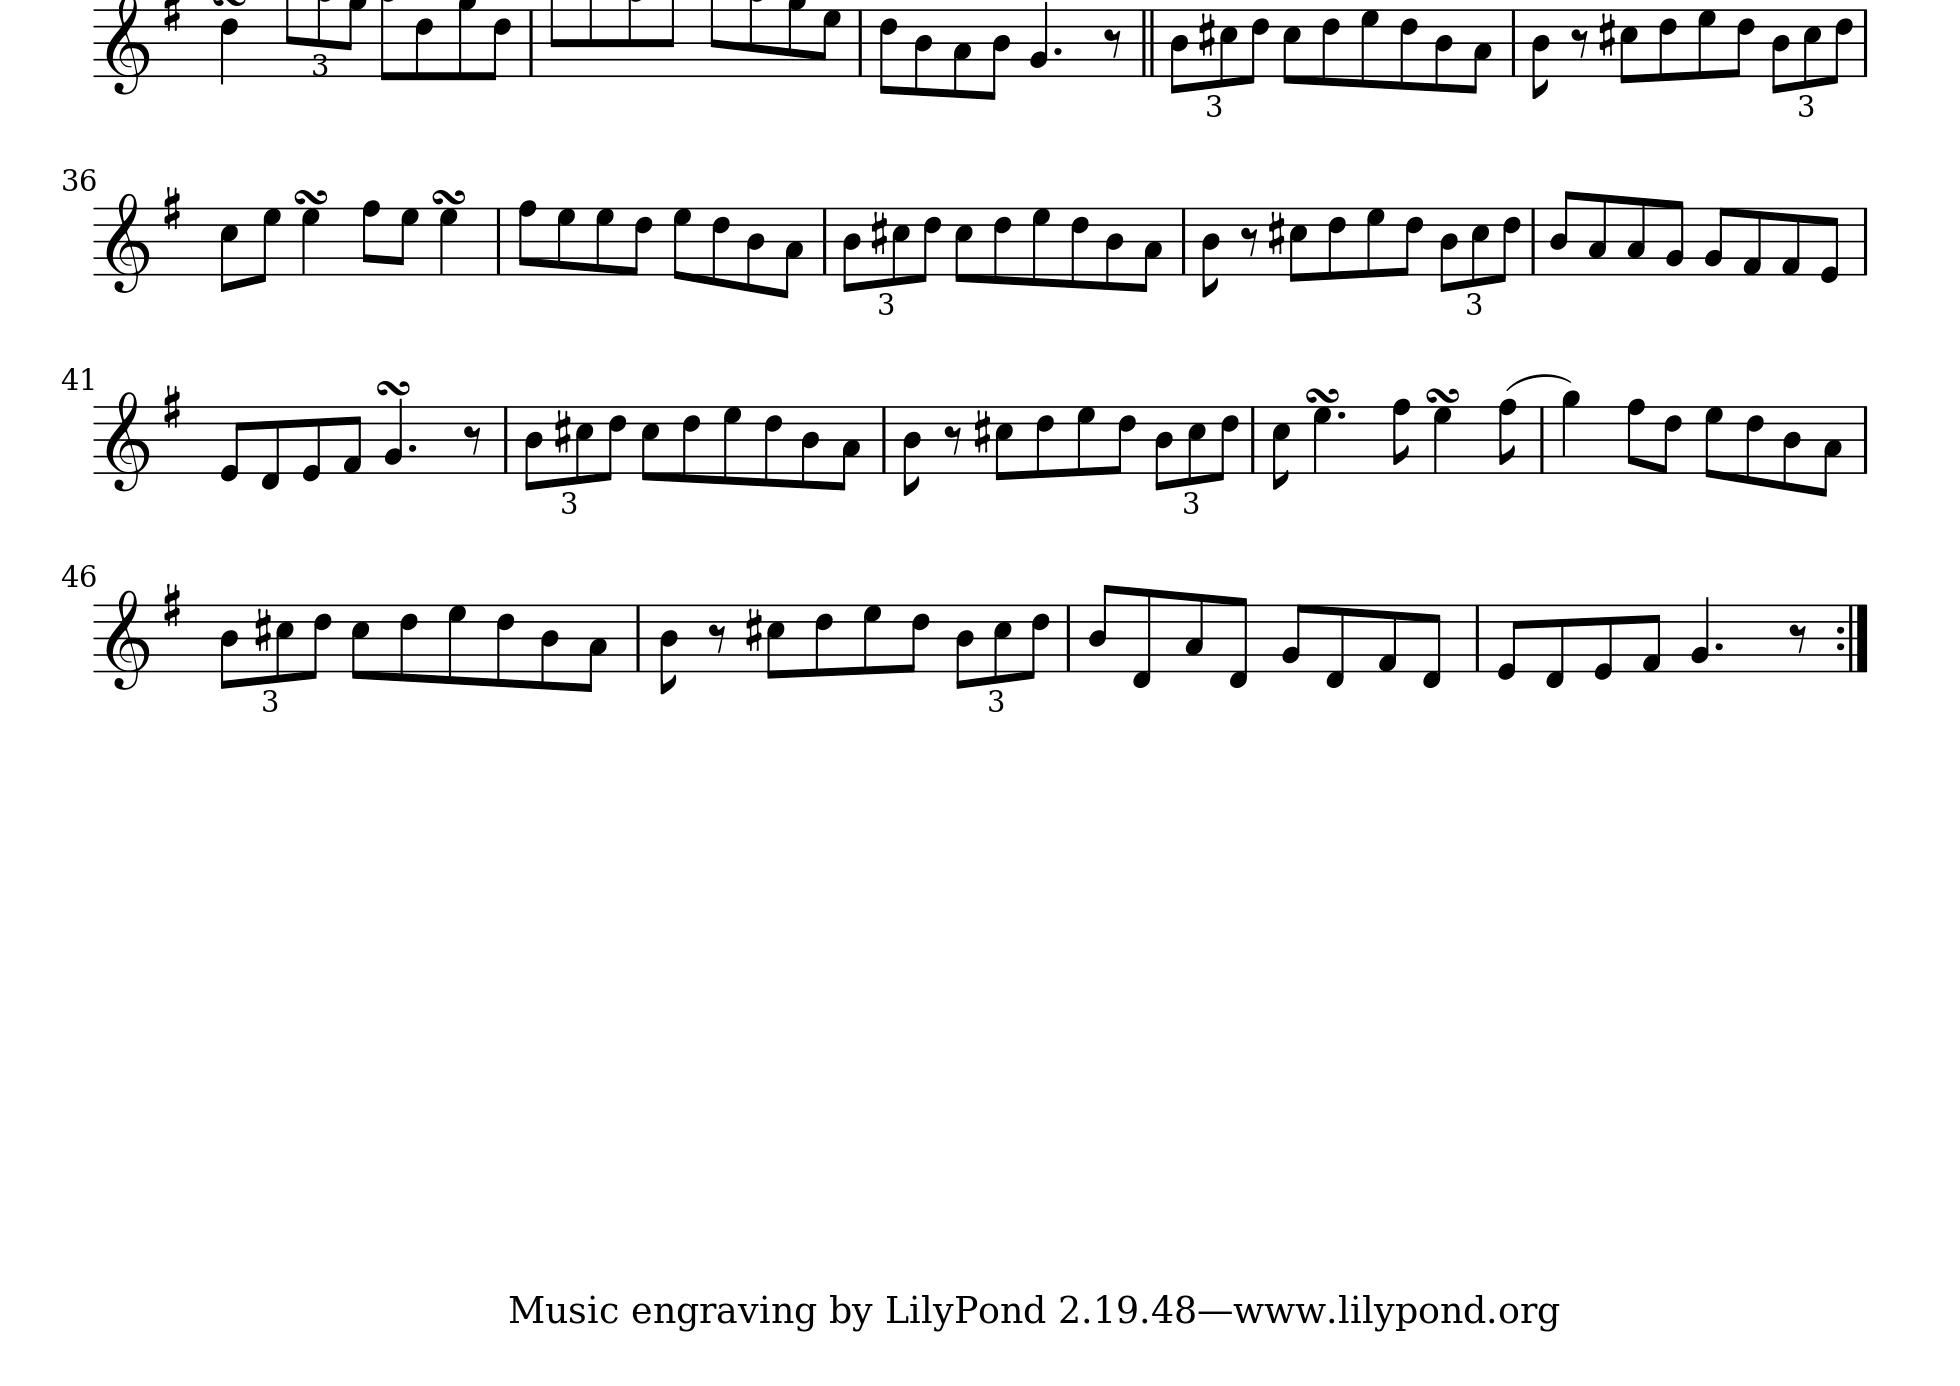1: (79, 364, 94, 393)
3: (985, 687, 1008, 715), (259, 688, 280, 715), (58, 166, 78, 192), (1464, 291, 1483, 316), (1797, 91, 1815, 118), (310, 51, 328, 76), (1206, 93, 1224, 118), (559, 490, 577, 516), (1182, 490, 1200, 516), (877, 292, 894, 316)
4: (60, 364, 79, 391), (60, 562, 78, 589)
4_2: (382, 397, 405, 475), (1689, 595, 1711, 673), (1029, 1, 1051, 78)
4_7: (300, 205, 324, 277), (438, 205, 460, 277), (1312, 405, 1335, 475), (1432, 405, 1455, 475)
4_9: (1560, 387, 1582, 475)
6: (78, 166, 97, 192), (79, 562, 97, 589)
8_-1: (1129, 586, 1153, 690), (1227, 594, 1251, 690), (1323, 601, 1347, 690), (1420, 601, 1444, 688), (1543, 601, 1567, 688), (259, 403, 282, 490)
8_0: (217, 403, 247, 483), (1495, 601, 1524, 681), (1818, 205, 1843, 283), (1593, 601, 1615, 681), (300, 403, 322, 481)
8_1: (1779, 205, 1803, 277), (1375, 601, 1399, 673), (1741, 205, 1764, 277), (340, 403, 363, 475), (1641, 601, 1662, 675)
8_2: (1279, 601, 1309, 673), (1704, 205, 1731, 277), (1665, 198, 1686, 277)
8_3: (774, 205, 805, 298), (577, 601, 609, 694), (831, 403, 862, 493), (1134, 205, 1165, 294), (1816, 403, 1845, 499), (1464, 7, 1494, 96), (949, 7, 973, 99), (1587, 192, 1611, 277), (1626, 195, 1648, 277), (1183, 591, 1206, 673)
8_4: (1086, 582, 1117, 673), (1548, 189, 1576, 277), (987, 7, 1014, 100), (910, 7, 934, 97), (1530, 7, 1552, 100), (1200, 205, 1222, 298), (901, 403, 924, 496), (1780, 403, 1803, 493), (744, 205, 766, 294), (522, 403, 544, 492), (1168, 7, 1191, 94), (1432, 7, 1455, 94), (1104, 205, 1126, 292), (658, 601, 679, 694), (217, 600, 238, 691), (538, 601, 559, 691), (1438, 205, 1459, 294), (954, 601, 975, 690), (1770, 7, 1791, 94), (841, 205, 862, 292), (799, 403, 820, 490), (1153, 403, 1174, 490)
8_5: (217, 205, 240, 292), (991, 601, 1014, 684), (1270, 403, 1291, 490), (273, 601, 294, 684), (1218, 7, 1239, 88), (1801, 7, 1822, 88), (889, 205, 910, 286), (1618, 6, 1639, 85), (349, 601, 370, 681), (765, 601, 786, 681), (640, 403, 661, 481), (1186, 403, 1206, 486), (1470, 205, 1489, 286), (574, 403, 594, 484), (1282, 7, 1302, 85), (954, 205, 973, 283), (1288, 205, 1308, 283), (994, 403, 1014, 481)
8_6: (304, 601, 334, 679), (1024, 601, 1053, 679), (484, 7, 514, 81), (901, 601, 931, 675), (1245, 7, 1272, 85), (916, 205, 943, 283), (1497, 205, 1524, 283), (601, 403, 628, 481), (1215, 403, 1242, 481), (627, 205, 655, 277), (1110, 403, 1138, 475), (1728, 7, 1756, 78), (877, 7, 900, 96), (493, 601, 516, 690), (1830, 7, 1855, 84), (762, 403, 784, 489), (1398, 205, 1425, 276), (1398, 7, 1420, 91), (709, 205, 732, 289), (1069, 205, 1092, 289), (1743, 403, 1765, 487), (1659, 403, 1684, 475), (679, 403, 702, 484), (991, 205, 1014, 285), (397, 601, 418, 684), (1033, 403, 1056, 480), (811, 601, 834, 678), (412, 7, 435, 82), (1656, 7, 1678, 82), (1320, 7, 1341, 87), (1326, 205, 1347, 280)
8_7: (253, 205, 283, 283), (814, 7, 843, 76), (445, 603, 468, 685), (1359, 7, 1381, 88), (1030, 205, 1053, 286), (394, 205, 420, 276), (721, 403, 742, 486), (1075, 403, 1098, 477), (861, 603, 883, 676), (1695, 7, 1717, 79), (1704, 403, 1725, 480), (555, 205, 577, 276), (594, 205, 616, 276), (672, 205, 693, 280), (1365, 205, 1386, 277)
8_8: (360, 198, 382, 276), (516, 198, 538, 276), (1390, 397, 1413, 475), (1497, 396, 1518, 475), (1626, 397, 1647, 475)
Double_barline: (1137, 7, 1159, 76)
Gclef: (106, 190, 150, 292), (106, 388, 150, 490), (105, 588, 148, 688)
Rests8: (706, 621, 729, 654), (1570, 25, 1591, 58), (1240, 223, 1261, 256), (462, 421, 483, 454), (943, 421, 964, 454), (1788, 621, 1809, 654), (1104, 25, 1123, 58)
RightRepeatSign: (1836, 603, 1870, 670)
Sharp: (973, 406, 993, 456), (1597, 10, 1617, 58), (162, 382, 181, 430), (744, 604, 763, 652), (162, 582, 181, 628), (1197, 10, 1216, 55), (870, 208, 888, 256), (1269, 208, 1287, 256), (553, 406, 571, 454), (253, 604, 271, 652), (163, 184, 181, 231)
Single_barline: (520, 7, 541, 76), (1857, 205, 1875, 277), (1857, 403, 1875, 474), (850, 7, 868, 76), (496, 405, 514, 472), (490, 207, 507, 274), (816, 207, 832, 274), (1176, 207, 1192, 274), (876, 406, 892, 472), (1245, 406, 1261, 472), (1470, 604, 1486, 670), (1506, 9, 1521, 76), (1527, 207, 1542, 274), (631, 604, 646, 672), (1062, 604, 1077, 670)
Slur: (1857, 7, 1875, 76), (1506, 373, 1573, 391)
Turn: (292, 184, 328, 205), (376, 375, 409, 397), (430, 186, 466, 205), (1305, 384, 1341, 403), (1425, 385, 1461, 403)
dot: (1335, 406, 1348, 421), (1051, 45, 1065, 57), (406, 441, 418, 454), (1713, 640, 1725, 652)
